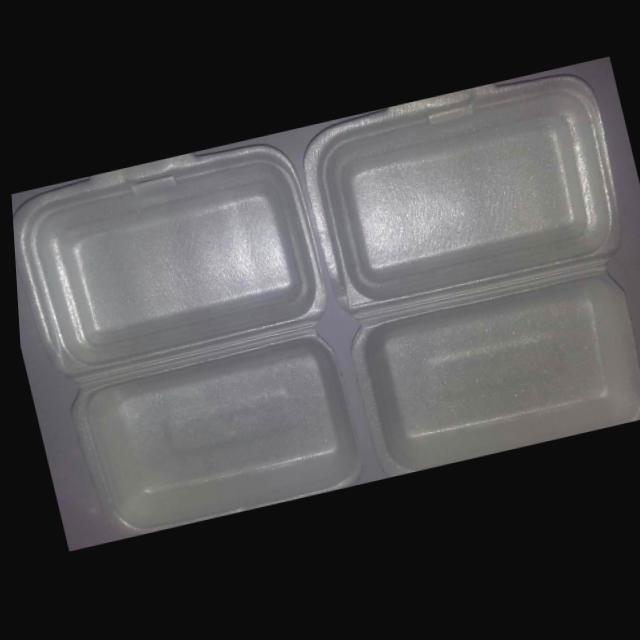styrofoam: (298, 77, 619, 330), (10, 145, 322, 385), (345, 276, 640, 481), (66, 337, 355, 538)
